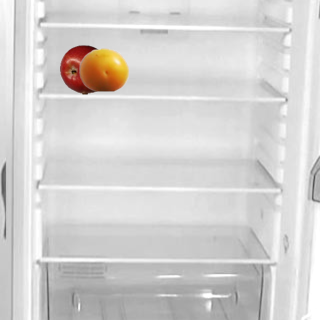Apple Braeburn: (59, 44, 109, 94)
Cherry Wax Yellow: (78, 44, 128, 94)
